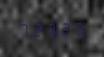seven: (18, 20, 30, 37)
three: (70, 19, 82, 36), (44, 20, 56, 36)
two: (31, 20, 43, 37), (57, 19, 69, 36)
